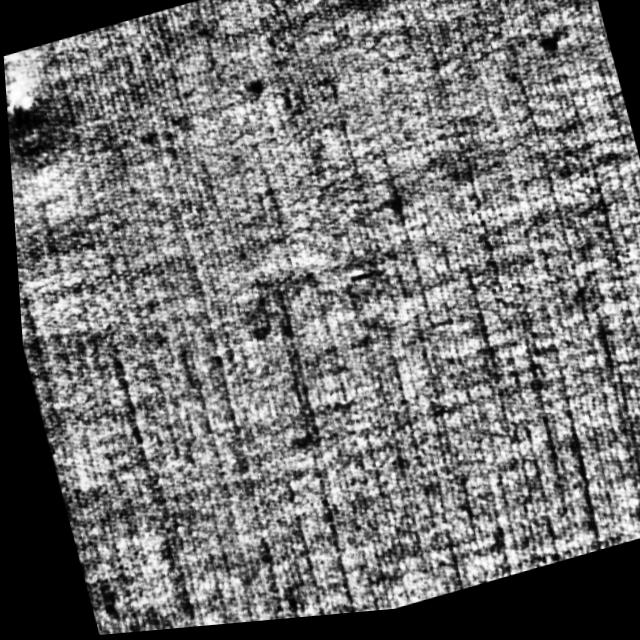Stitch: (3, 47, 56, 157)
